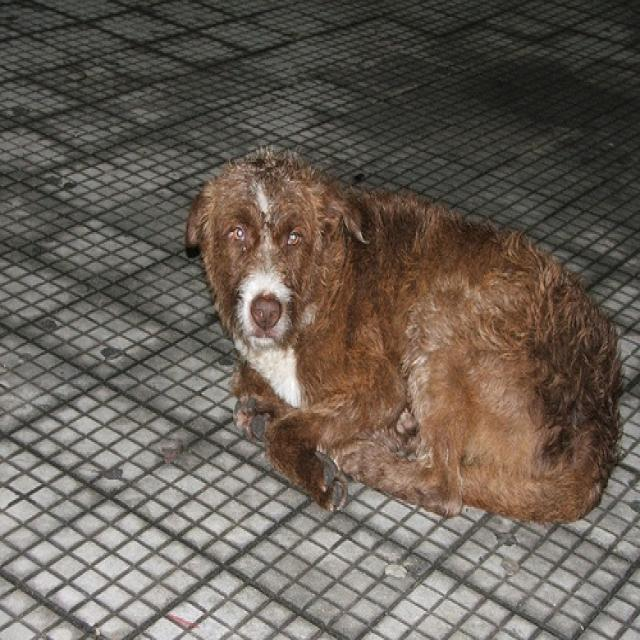dog: (173, 145, 621, 515)
